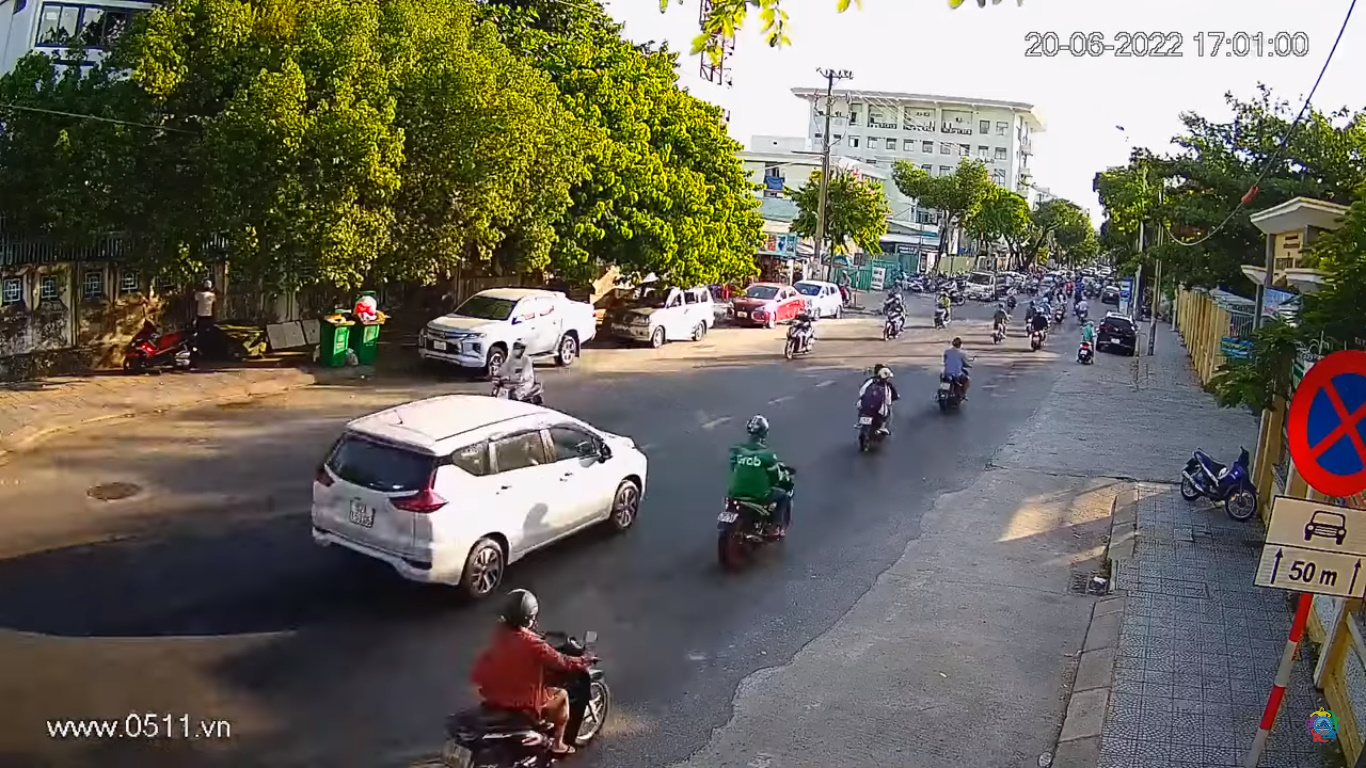car: (312, 400, 654, 597)
